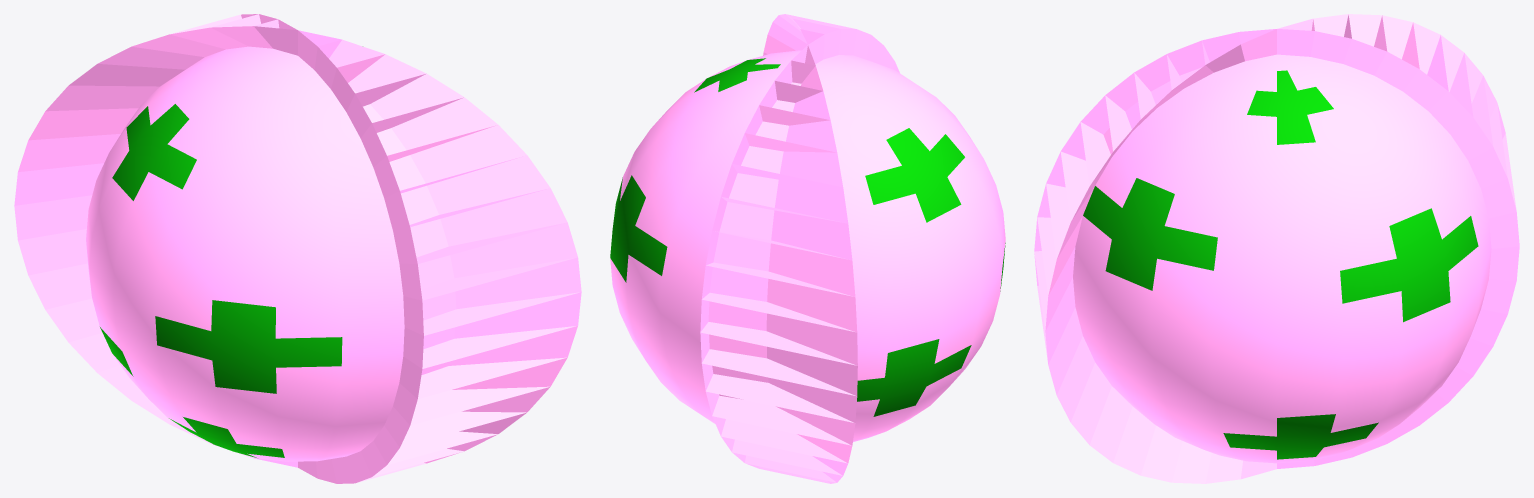
The model's file is PowerUp_Health.fbx.
The picture shows the model from 3 angles, left to right: view 1: azimuth 30°, elevation 25°; view 2: azimuth 150°, elevation 25°; view 3: azimuth 270°, elevation 25°; orthographic projection. The views are drawn at different scales.
Parts seen in each view (by area): view 1: pSphere6; view 2: pSphere6; view 3: pSphere6.
Part boxes in pixels (left/top/right/bottom): pSphere6: left=14, top=14, right=581, bottom=483; pSphere6: left=610, top=14, right=1005, bottom=483; pSphere6: left=1034, top=14, right=1519, bottom=483.
Bounding box in the file's own units: 131 × 149 × 149.
